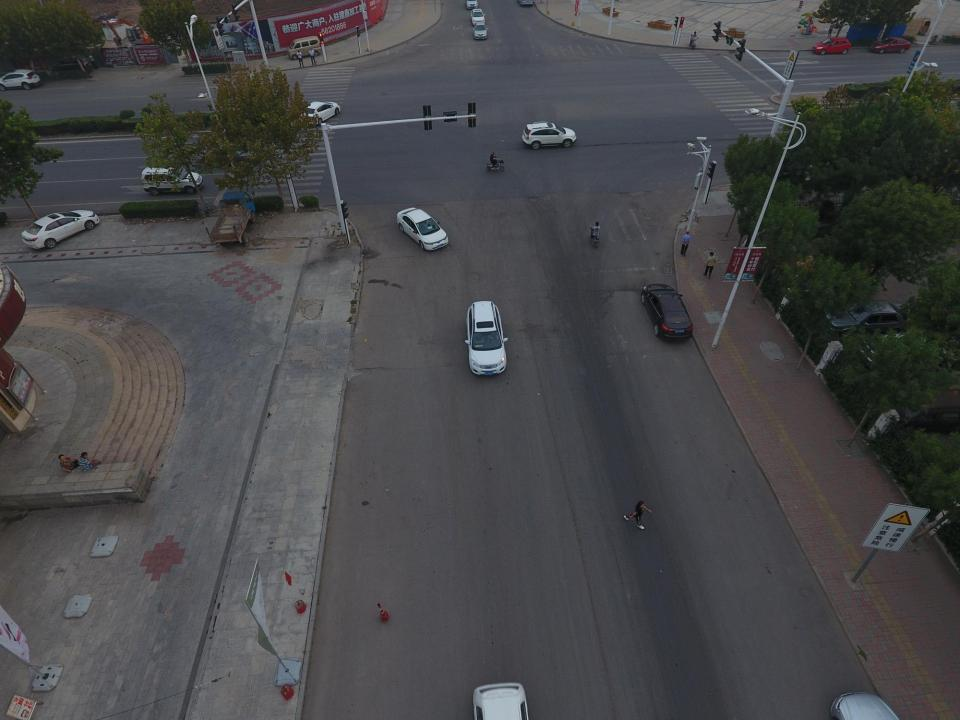car: (820, 299, 916, 342), (854, 331, 950, 373), (464, 300, 508, 376), (21, 209, 99, 250), (641, 283, 694, 341), (396, 207, 449, 251), (140, 165, 203, 195), (521, 121, 577, 149), (204, 144, 263, 168), (298, 100, 340, 128), (0, 69, 42, 91), (50, 56, 94, 75), (869, 36, 911, 54), (811, 37, 852, 55), (472, 21, 488, 40), (470, 8, 486, 26), (465, 0, 478, 10)
truck: (205, 191, 256, 245)
van: (881, 388, 960, 434), (286, 35, 322, 60)
